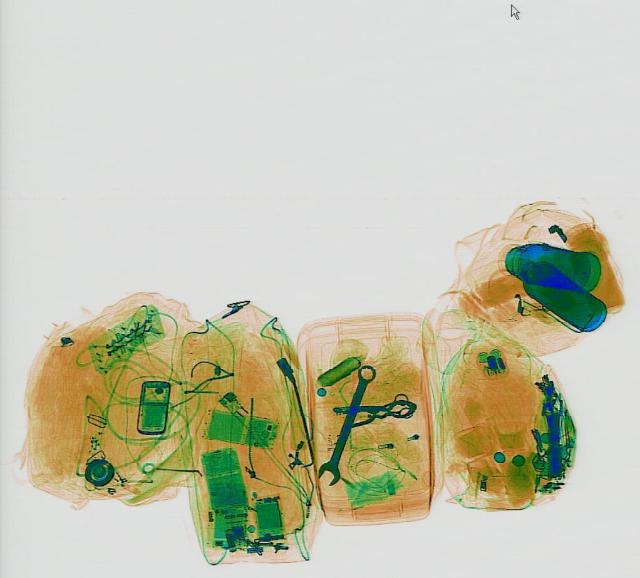Wrench: (312, 361, 378, 484)
